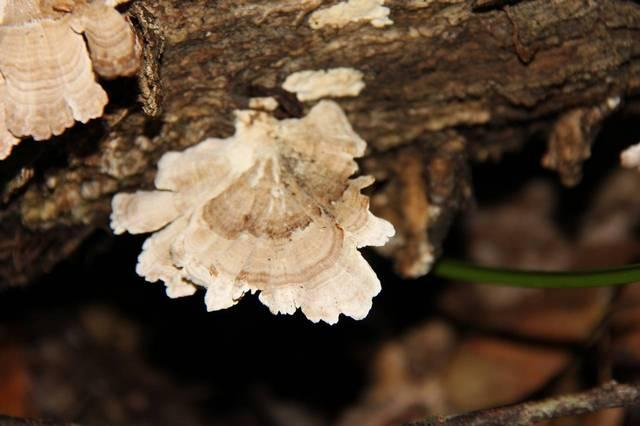Non-edible Mushroom: (108, 94, 397, 325), (0, 0, 142, 160)
